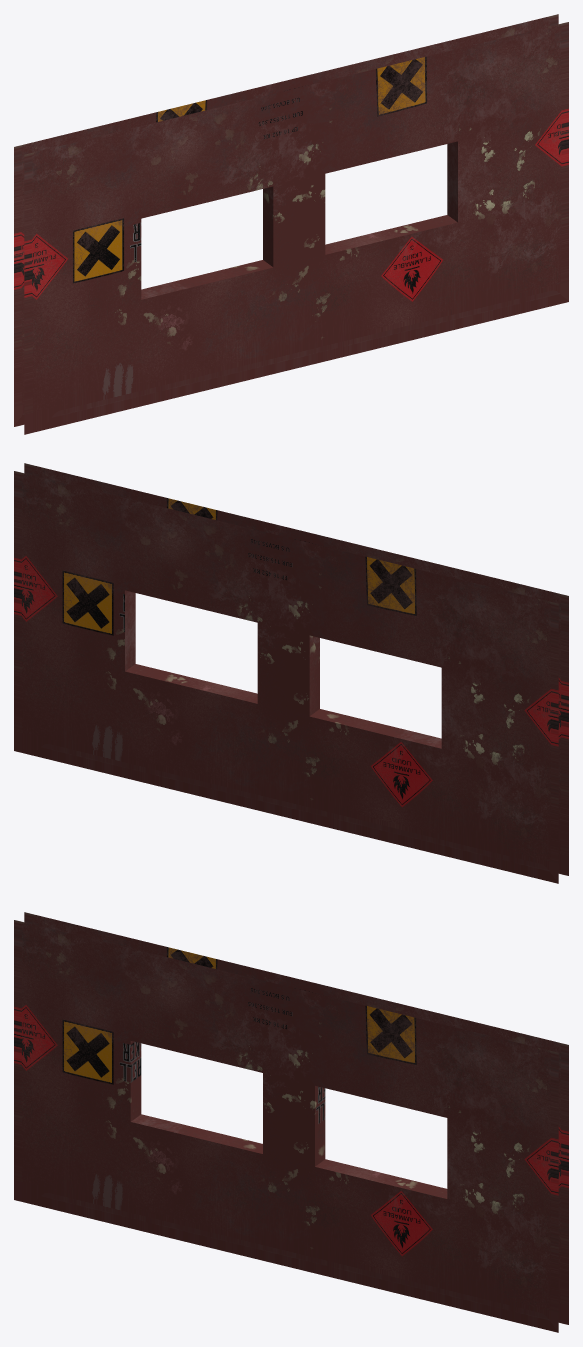
File: CS_wall_windows.FBX
3 views of the same model, one above another, from view 1: azimuth 30°, elevation 25°; view 2: azimuth 150°, elevation 25°; view 3: azimuth 330°, elevation 25° (orthographic).
Parts seen in each view (by area): view 1: SM_wall_windows; view 2: SM_wall_windows; view 3: SM_wall_windows.
Part boxes in pixels (bbox=[...]): SM_wall_windows: bbox=[14, 14, 568, 434]; SM_wall_windows: bbox=[14, 463, 568, 883]; SM_wall_windows: bbox=[14, 912, 568, 1332].
Bounding box in the file's own units: 600 × 20 × 295.
